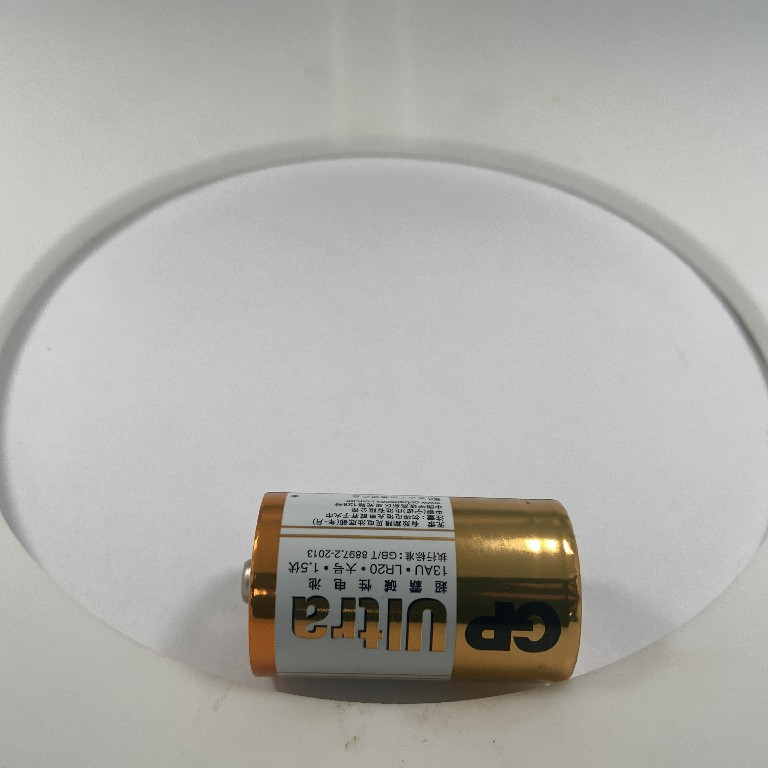charge: (237, 485, 587, 691)
